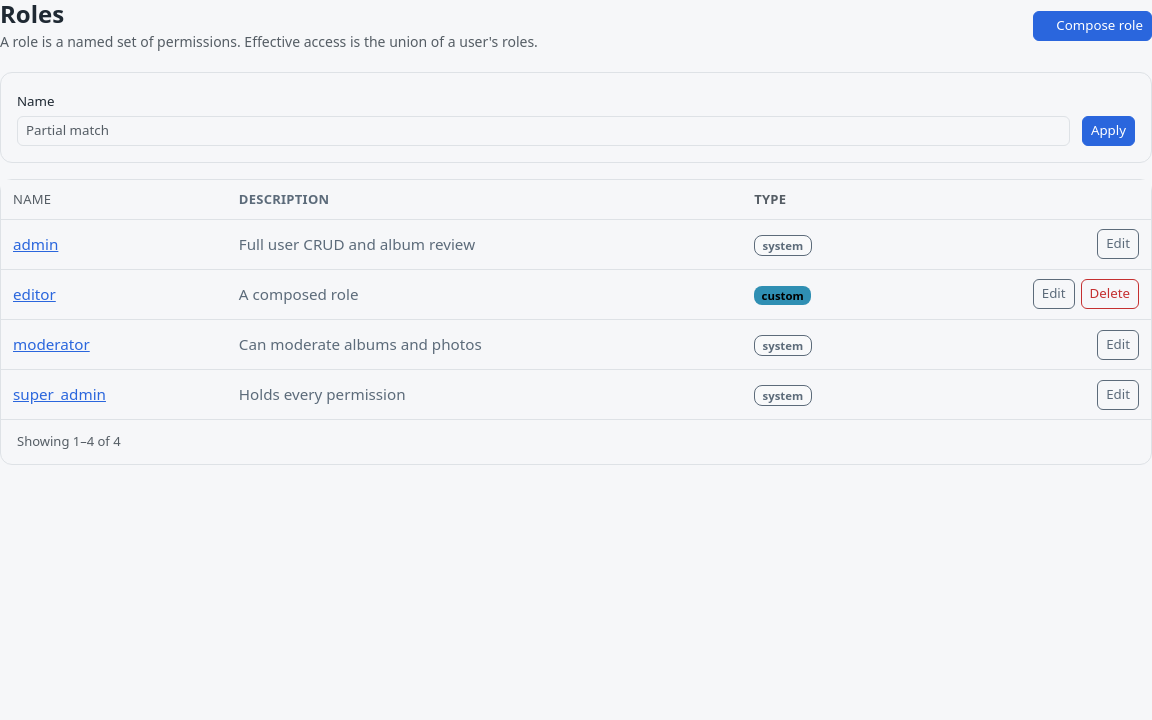
Test: When the API refuses a role change › keeps the role when the confirmation is dismissed
The width and height of the screenshot is (1152, 720).
Click the button "Delete": (1110, 294) [1081,280,1139,309]
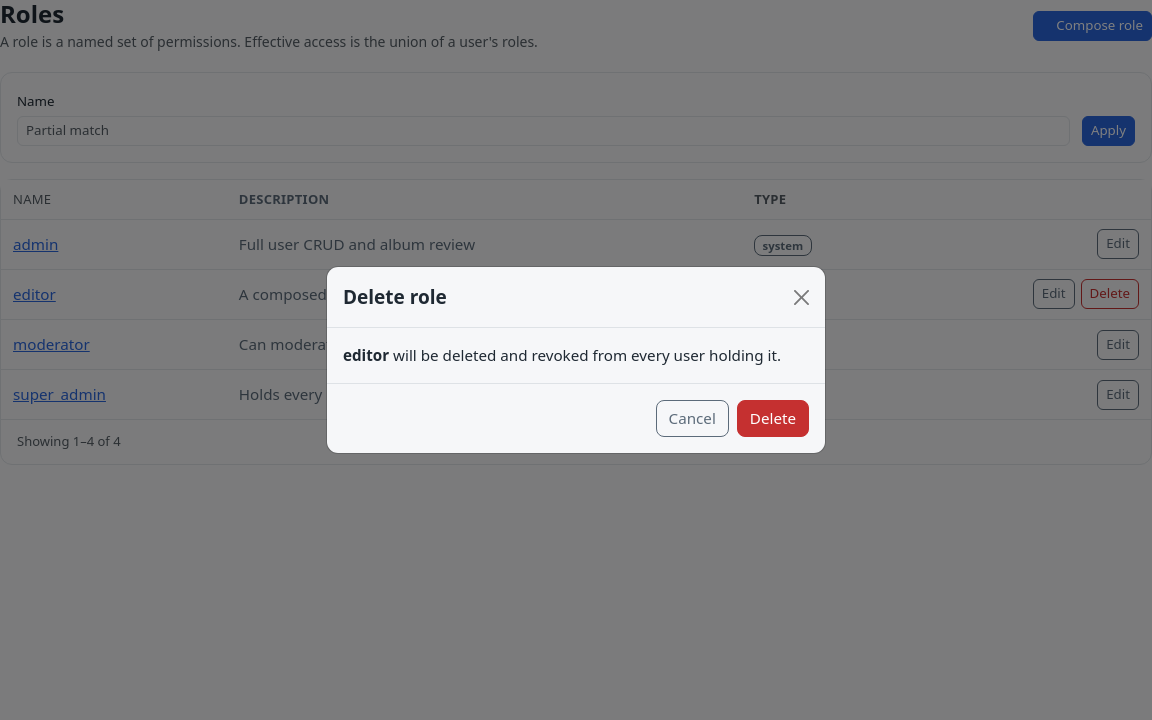
Click the button "Cancel": (692, 419) [656,400,729,437]
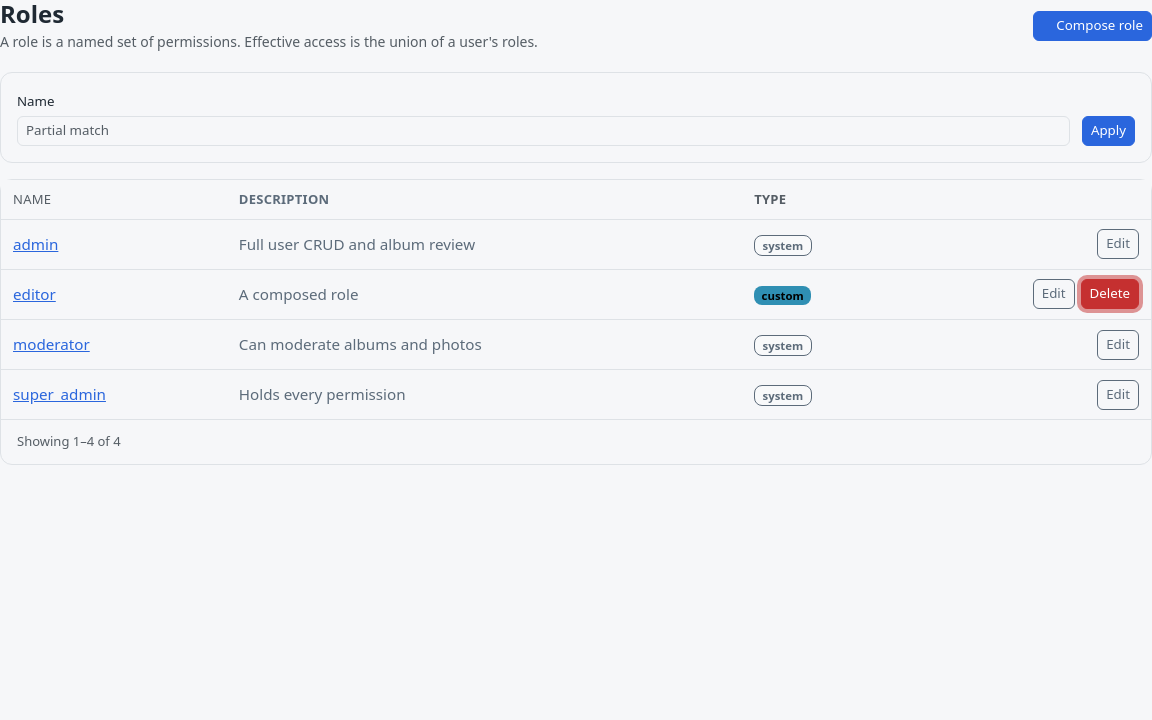
Now the dialog is gone
